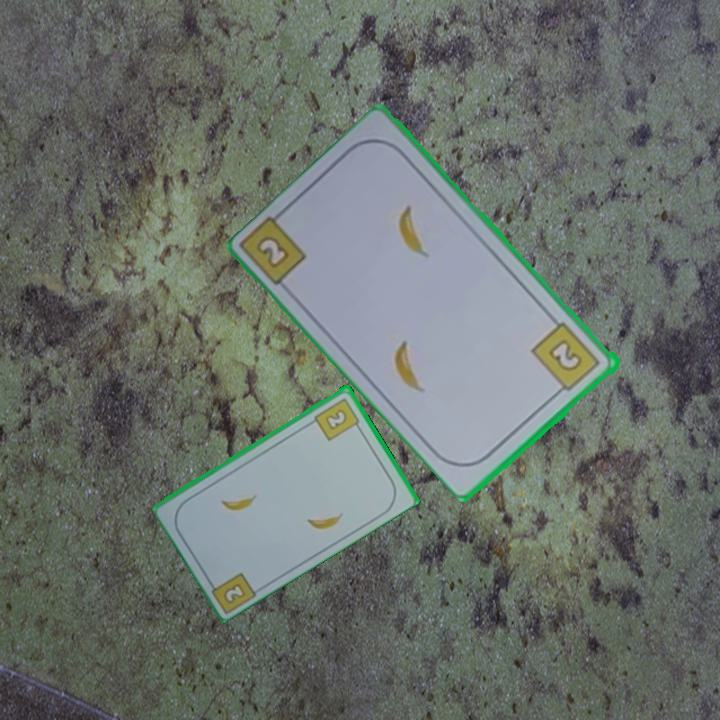2b: (528, 318, 604, 398), (311, 394, 364, 443), (204, 568, 260, 614), (253, 232, 293, 272)
